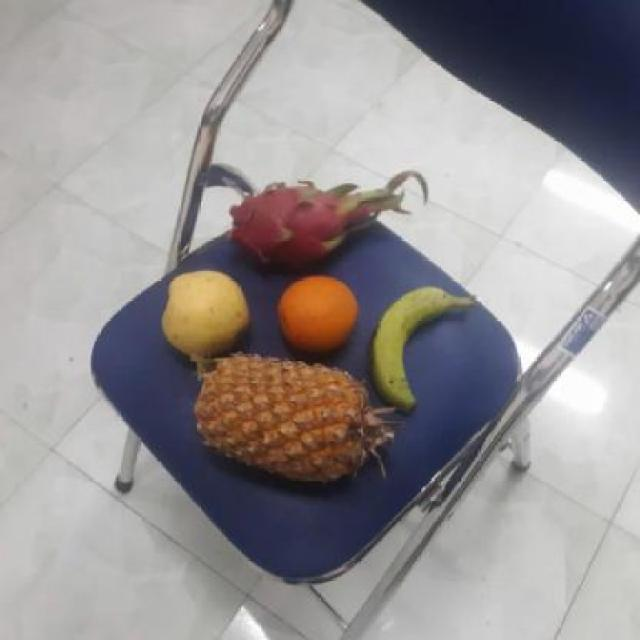banana: (371, 280, 449, 411)
dragon fruit: (230, 182, 373, 273)
oren: (275, 275, 362, 358)
pear: (161, 267, 250, 362)
pineapple: (193, 354, 373, 480)
